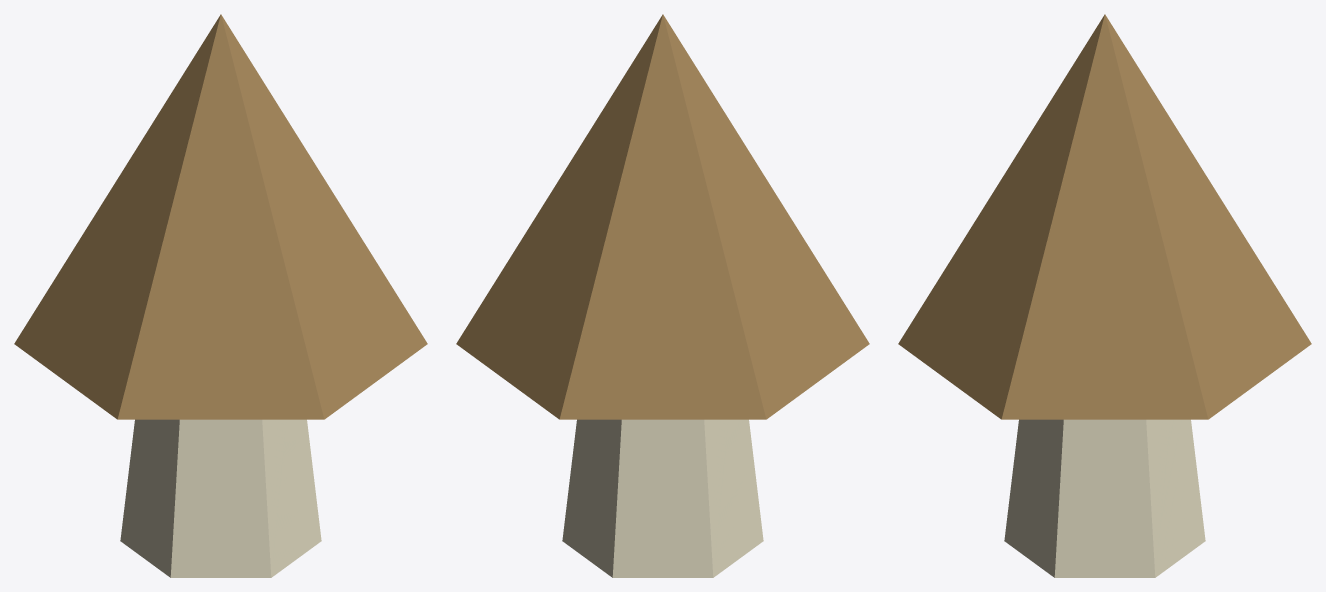
Rendered from Vegetation_New_Mushroom_Brown_04.FBX.
The picture shows the model from 3 angles, left to right: view 1: azimuth 30°, elevation 25°; view 2: azimuth 150°, elevation 25°; view 3: azimuth 270°, elevation 25°; orthographic projection.
Visible parts, largest first — view 1: Vegetation_New_Mushroom_Brown_04; view 2: Vegetation_New_Mushroom_Brown_04; view 3: Vegetation_New_Mushroom_Brown_04.
Boxes of the visible parts, x1,y1,x2,y2 form: Vegetation_New_Mushroom_Brown_04: (14, 14, 427, 577); Vegetation_New_Mushroom_Brown_04: (456, 14, 869, 577); Vegetation_New_Mushroom_Brown_04: (898, 14, 1311, 577).
Size of the model in its own units: 402 by 652 by 464.
